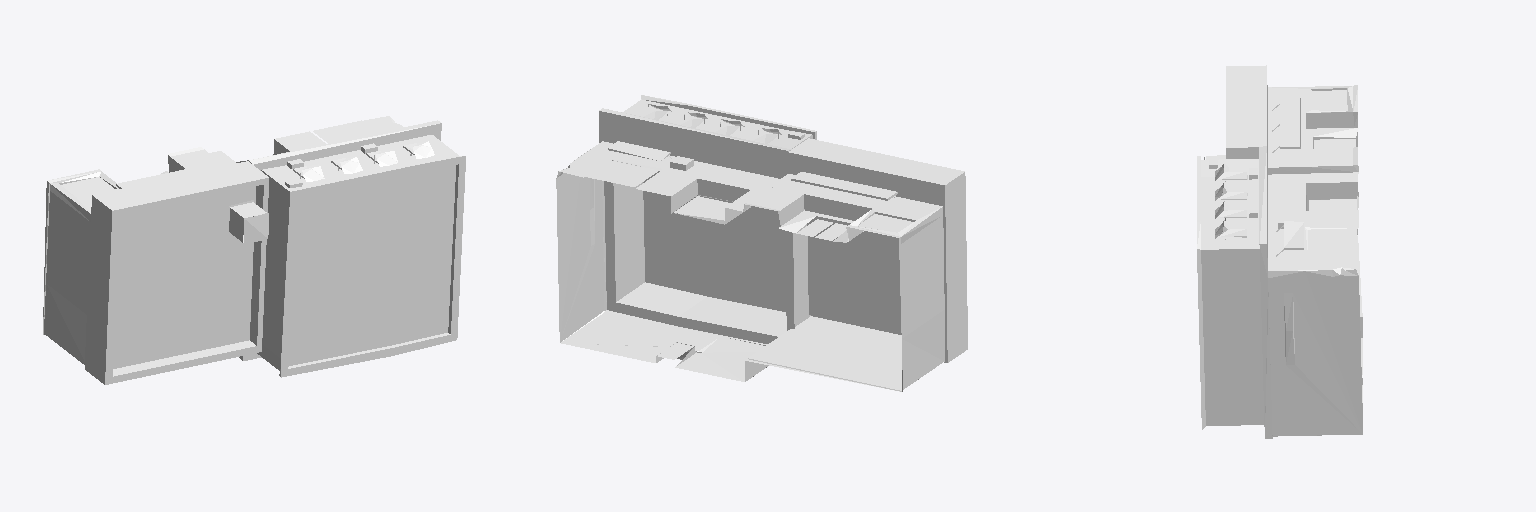
The model's file is house2LOD.obj.
3 views of the same model, side by side, from view 1: azimuth 30°, elevation 25°; view 2: azimuth 150°, elevation 25°; view 3: azimuth 270°, elevation 25° (orthographic).
Parts seen in each view (by area): view 1: house2.001_LOD1.001_LOD1; view 2: house2.001_LOD1.001_LOD1; view 3: house2.001_LOD1.001_LOD1.
Part boxes in pixels (x1,y1,x2,y2): house2.001_LOD1.001_LOD1: (43,116,465,384); house2.001_LOD1.001_LOD1: (556,95,967,391); house2.001_LOD1.001_LOD1: (1197,65,1362,438).
Bounding box in the file's own units: 17.36 × 10.13 × 7.14.